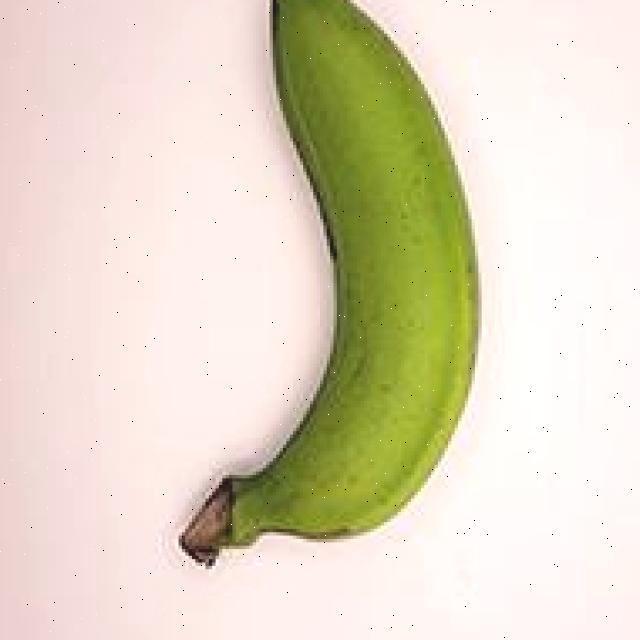Raw: (121, 0, 522, 582)
